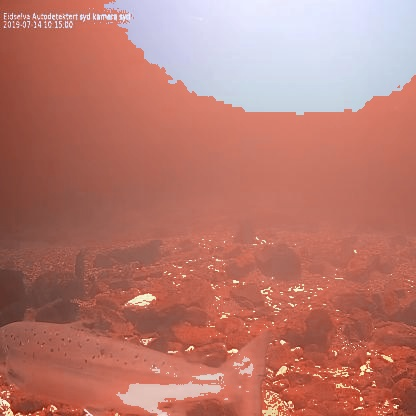salmon: (0, 314, 274, 415)
